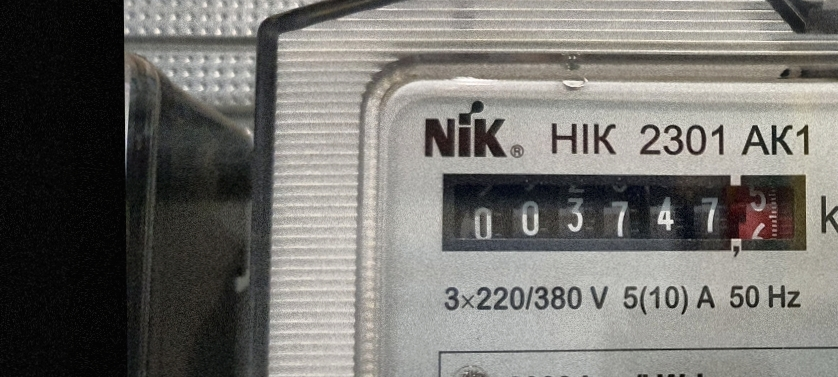0: (518, 197, 539, 236), (471, 204, 493, 239)
3: (564, 195, 584, 232)
4: (654, 193, 674, 233)
5: (747, 183, 767, 212)
6: (748, 219, 766, 240)
7: (697, 193, 720, 233), (609, 198, 628, 237)
screen: (431, 158, 821, 268)
